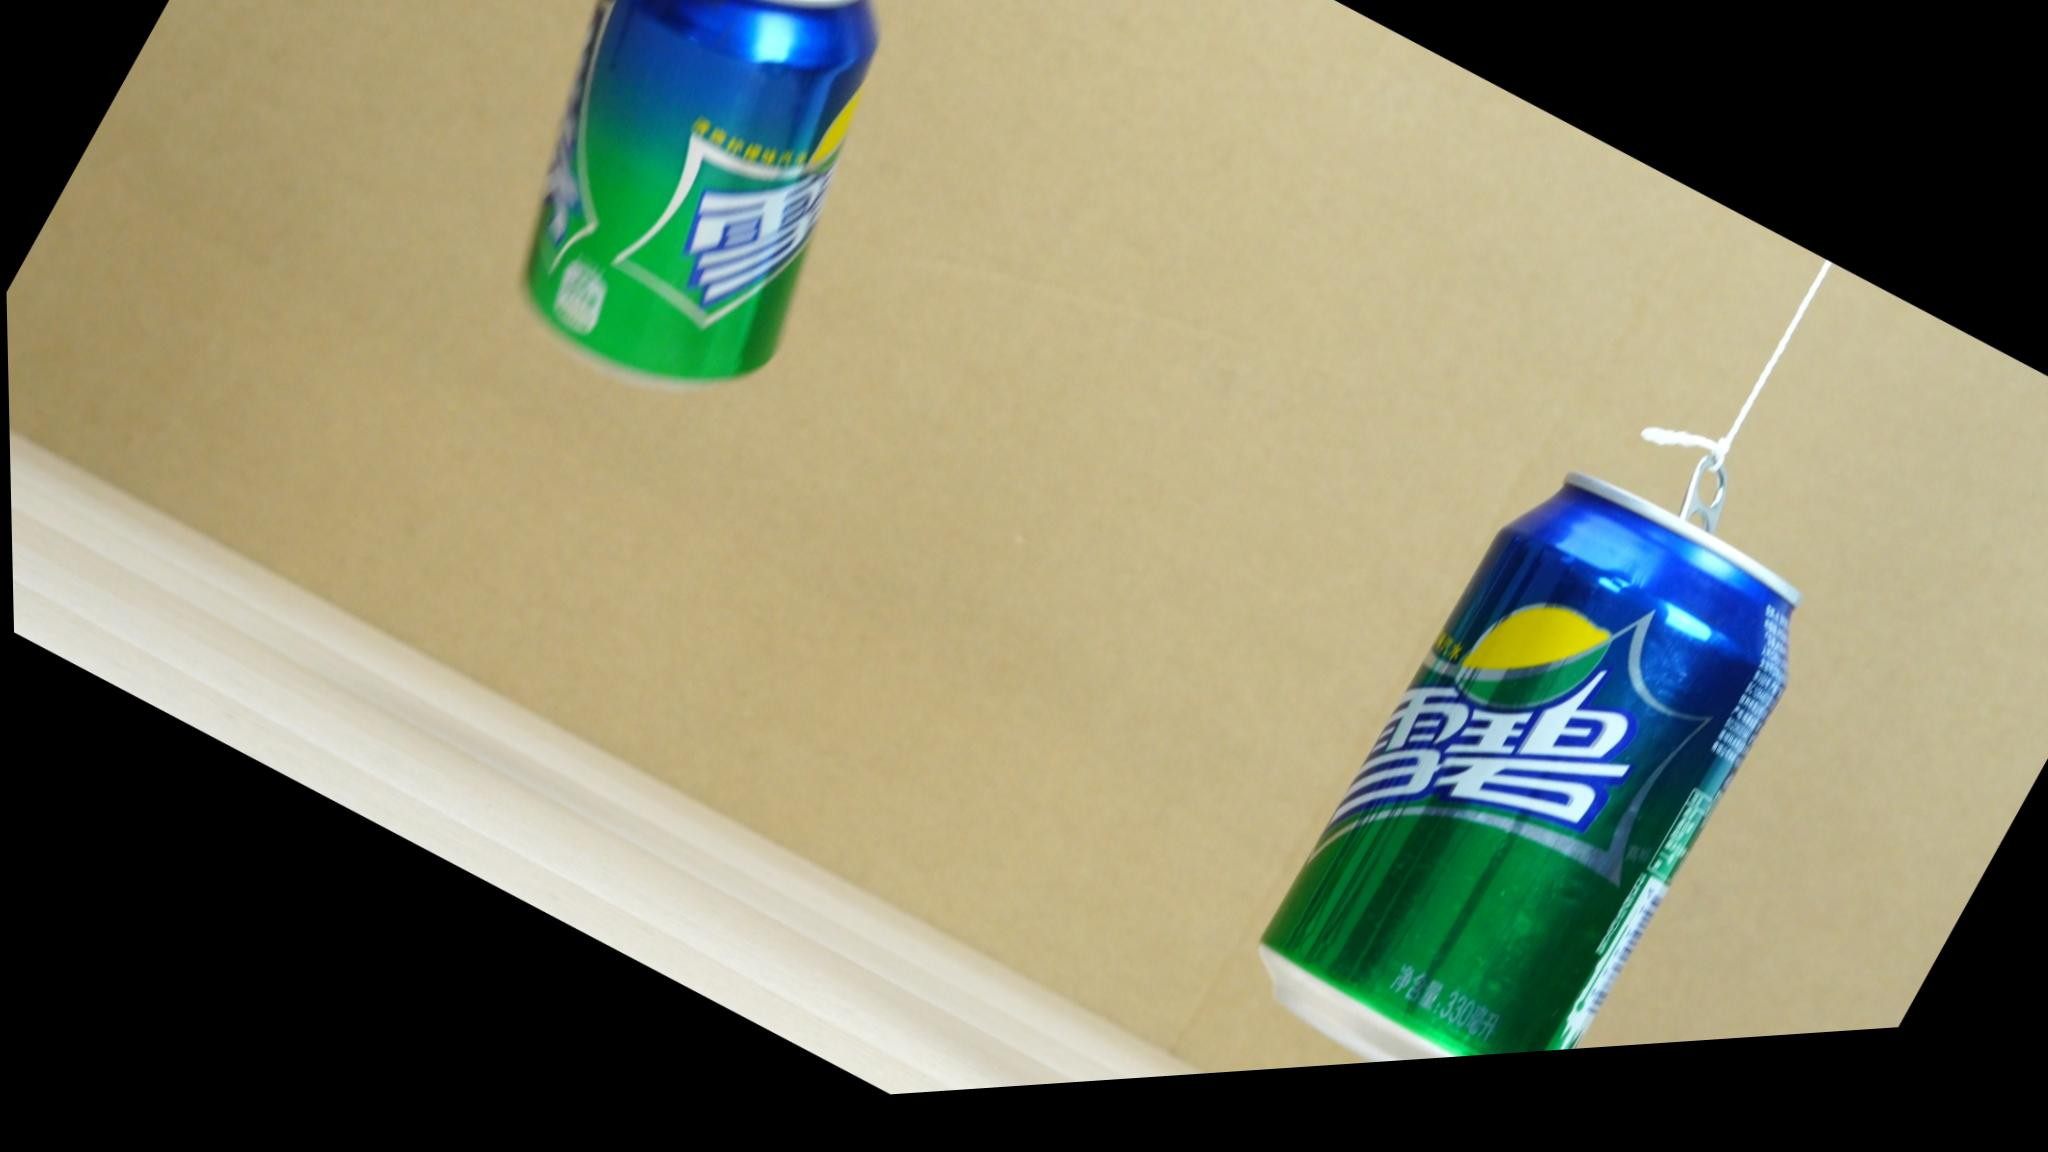metal: (1263, 475, 1798, 1055), (529, 0, 875, 378)
